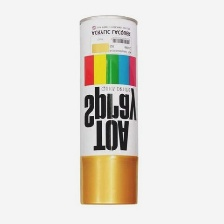aerosol_cans: (74, 11, 143, 210)
